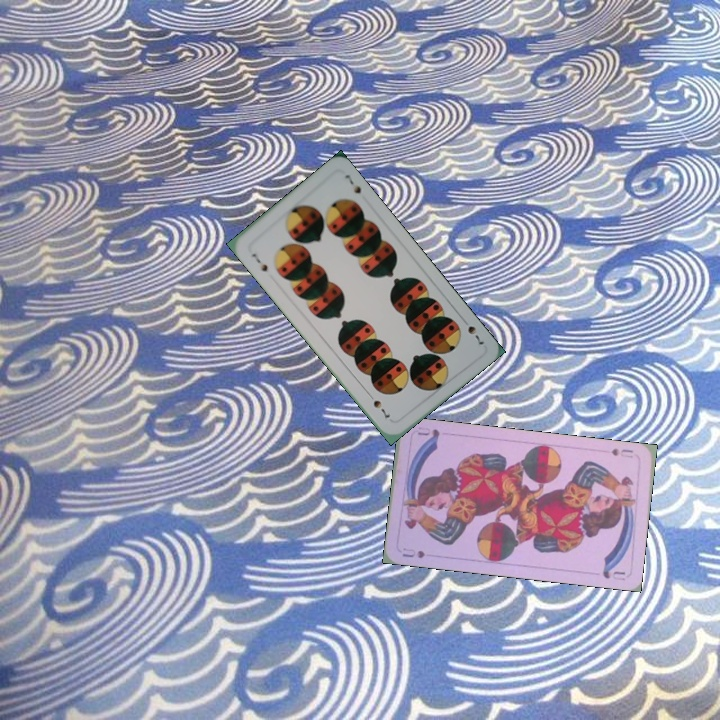S7: (458, 314, 487, 347), (247, 249, 270, 274)
SU: (398, 544, 428, 561), (607, 444, 636, 458)
